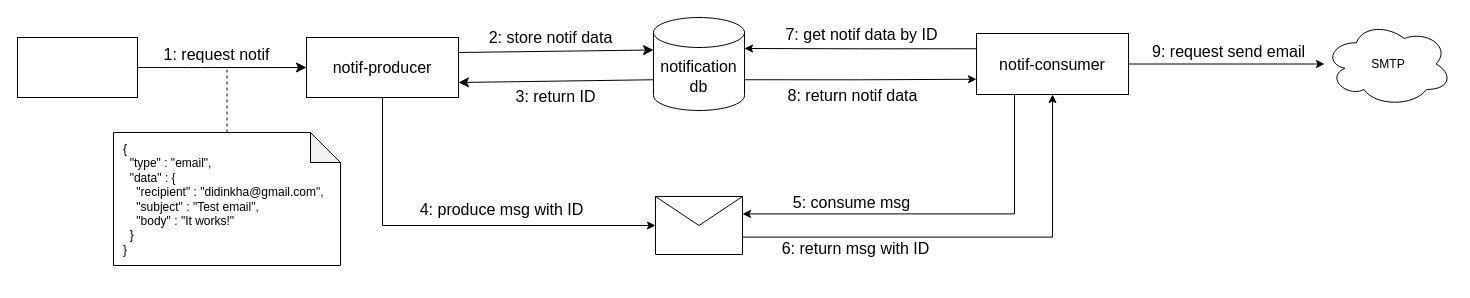
The diagram is 1470 pixels wide and 298 high, and some of its shapes have lost their labels. Here are the shapes that lost their labels. From the top down, the centre of each, then its label:
At (77,67): "Front-end".
At (698,225): "rabbitmq".
